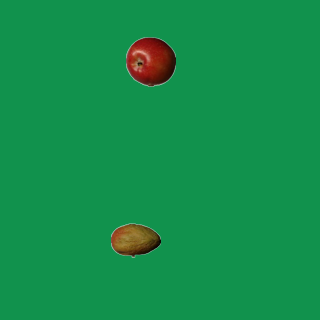Apple Braeburn: (125, 36, 175, 86)
Papaya: (110, 215, 160, 265)
